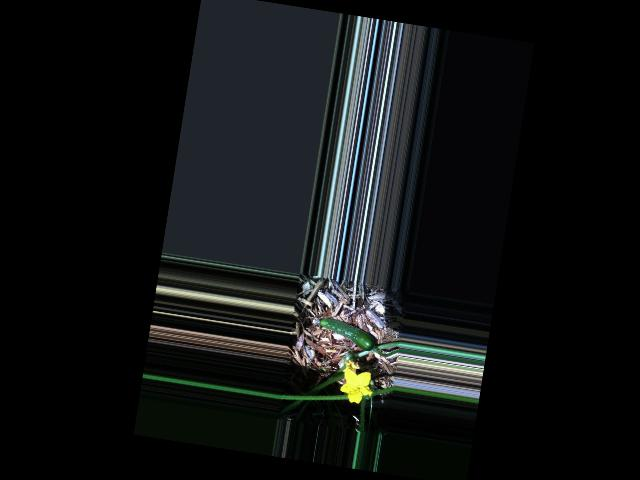cucumber: (310, 315, 379, 352)
